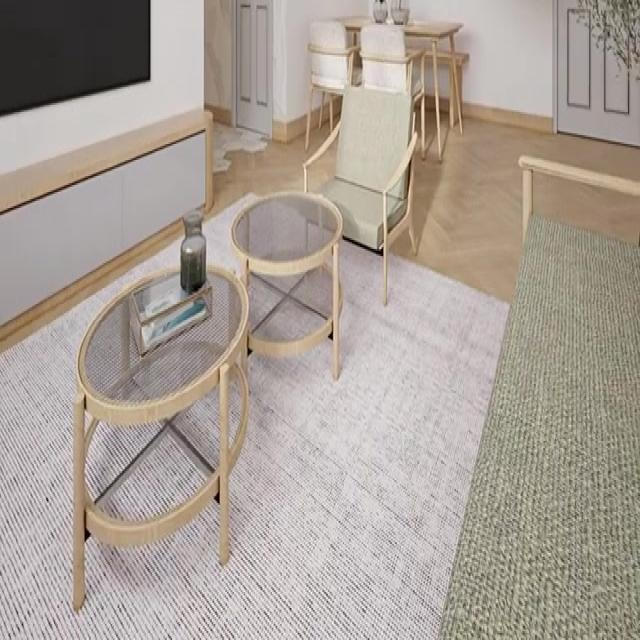door: (553, 0, 639, 148), (234, 0, 273, 139)
obstacle: (434, 152, 639, 638), (71, 261, 250, 610), (301, 86, 420, 310), (226, 191, 344, 381), (334, 14, 464, 162)
